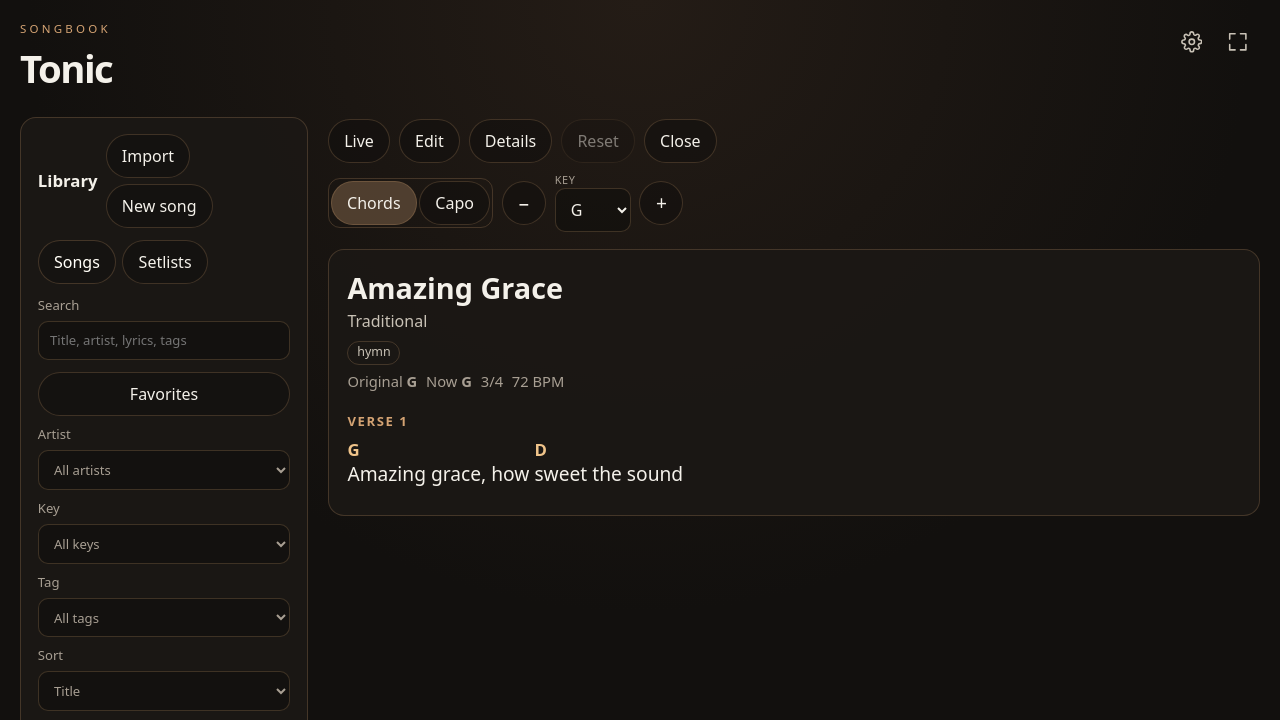
Test: App › transposes through the engine without rewriting lyrics
Expected: the heading "Amazing Grace" is shown, 347,266 -> 563,310
Click the button named "transpose up a semitone". click: {"x": 661, "y": 203}
box: 639,181 -> 683,225
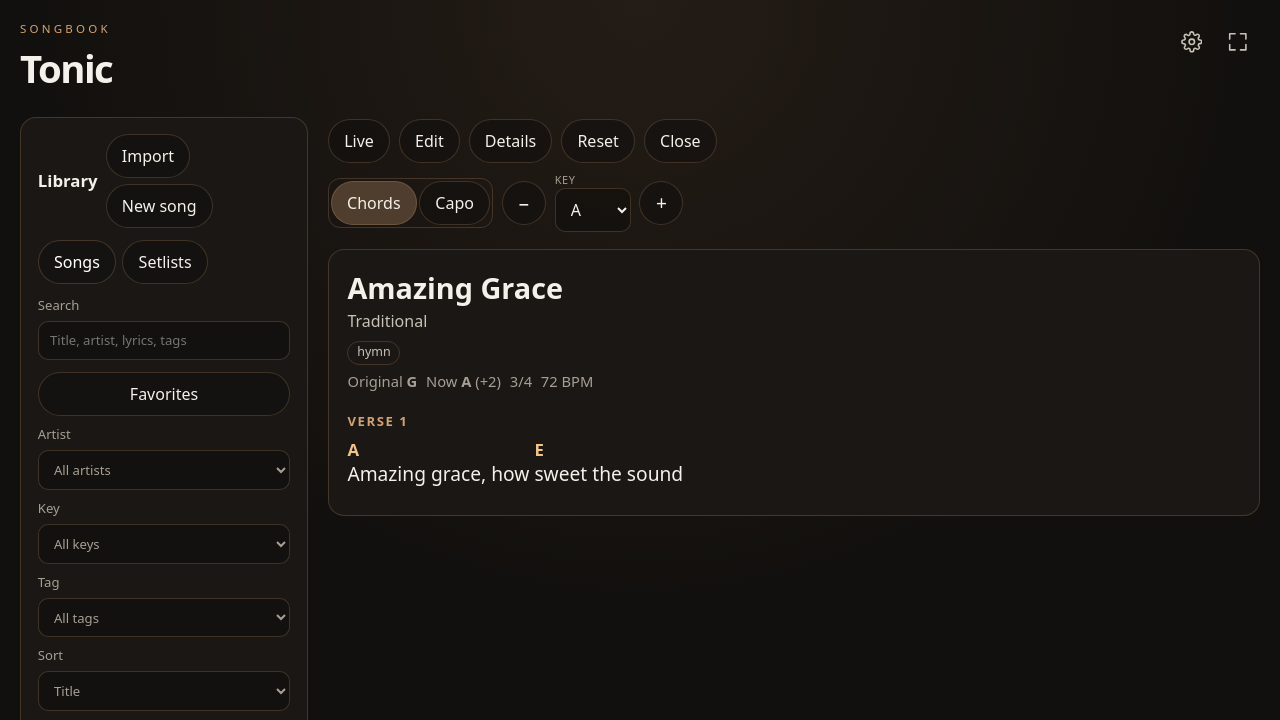
Expected: the element labelled "Verse 1" shows "A", 347,438 -> 359,461
Expected: the text "Now A (+2)" is shown, 426,370 -> 501,392
